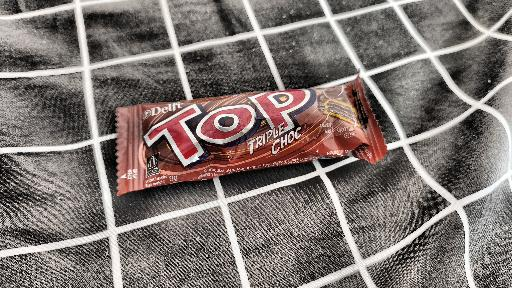top: (99, 97, 398, 191)
